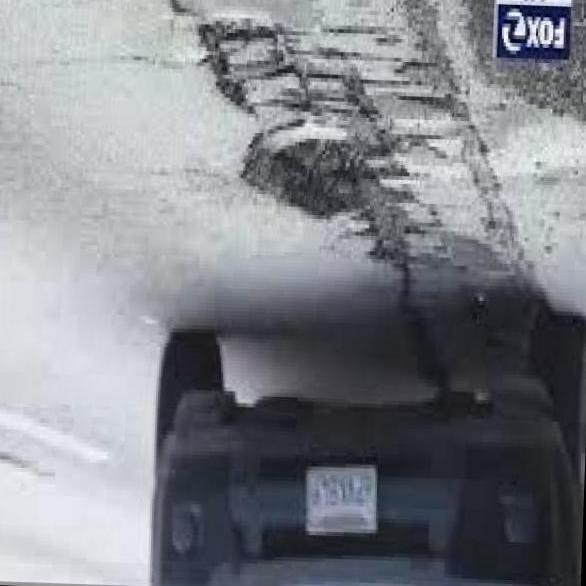pothole: (184, 8, 452, 254)
